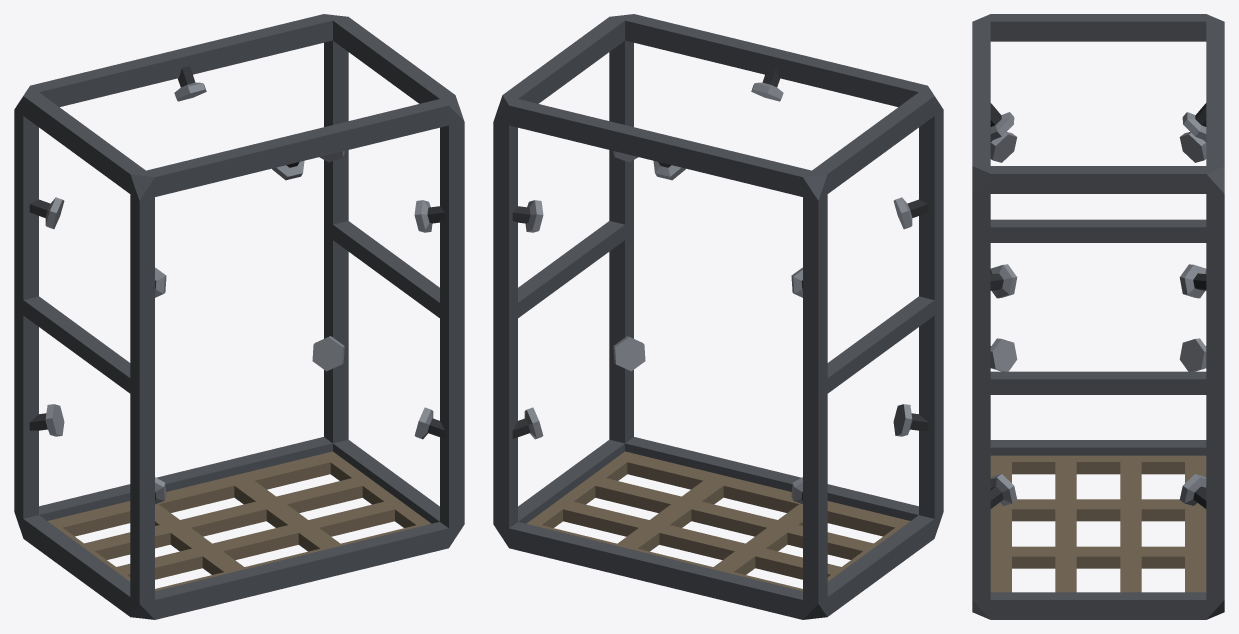
The model's file is SM_Prop_Decontamination_Shower_01.glb.
3 renders of one model, left to right at view 1: azimuth 30°, elevation 25°; view 2: azimuth 150°, elevation 25°; view 3: azimuth 270°, elevation 25°, orthographic.
Parts seen in each view (by area): view 1: SM_Prop_Decontamination_Shower_01; view 2: SM_Prop_Decontamination_Shower_01; view 3: SM_Prop_Decontamination_Shower_01.
Part boxes in pixels (x1,y1,x2,y2): SM_Prop_Decontamination_Shower_01: (14, 14, 464, 619); SM_Prop_Decontamination_Shower_01: (493, 14, 943, 619); SM_Prop_Decontamination_Shower_01: (972, 14, 1224, 619).
Bounding box in the file's own units: 2.32 × 3.02 × 1.55.
1 material, 1 textured.
